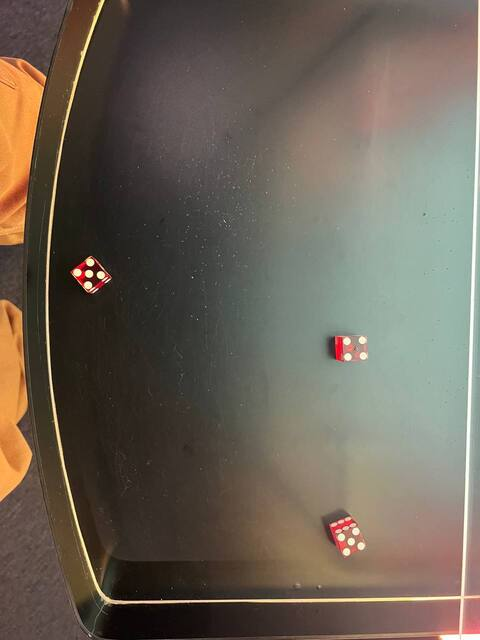five: (69, 253, 108, 292), (336, 525, 366, 558)
four: (335, 331, 372, 364)
